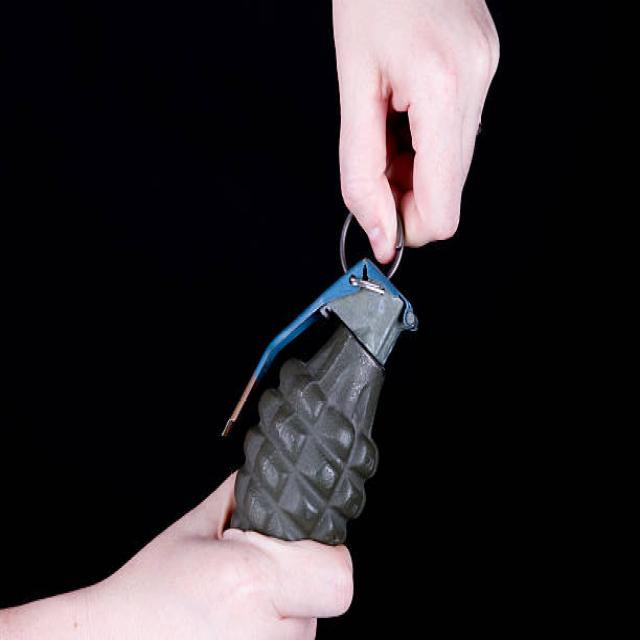grenade: (216, 203, 424, 558)
